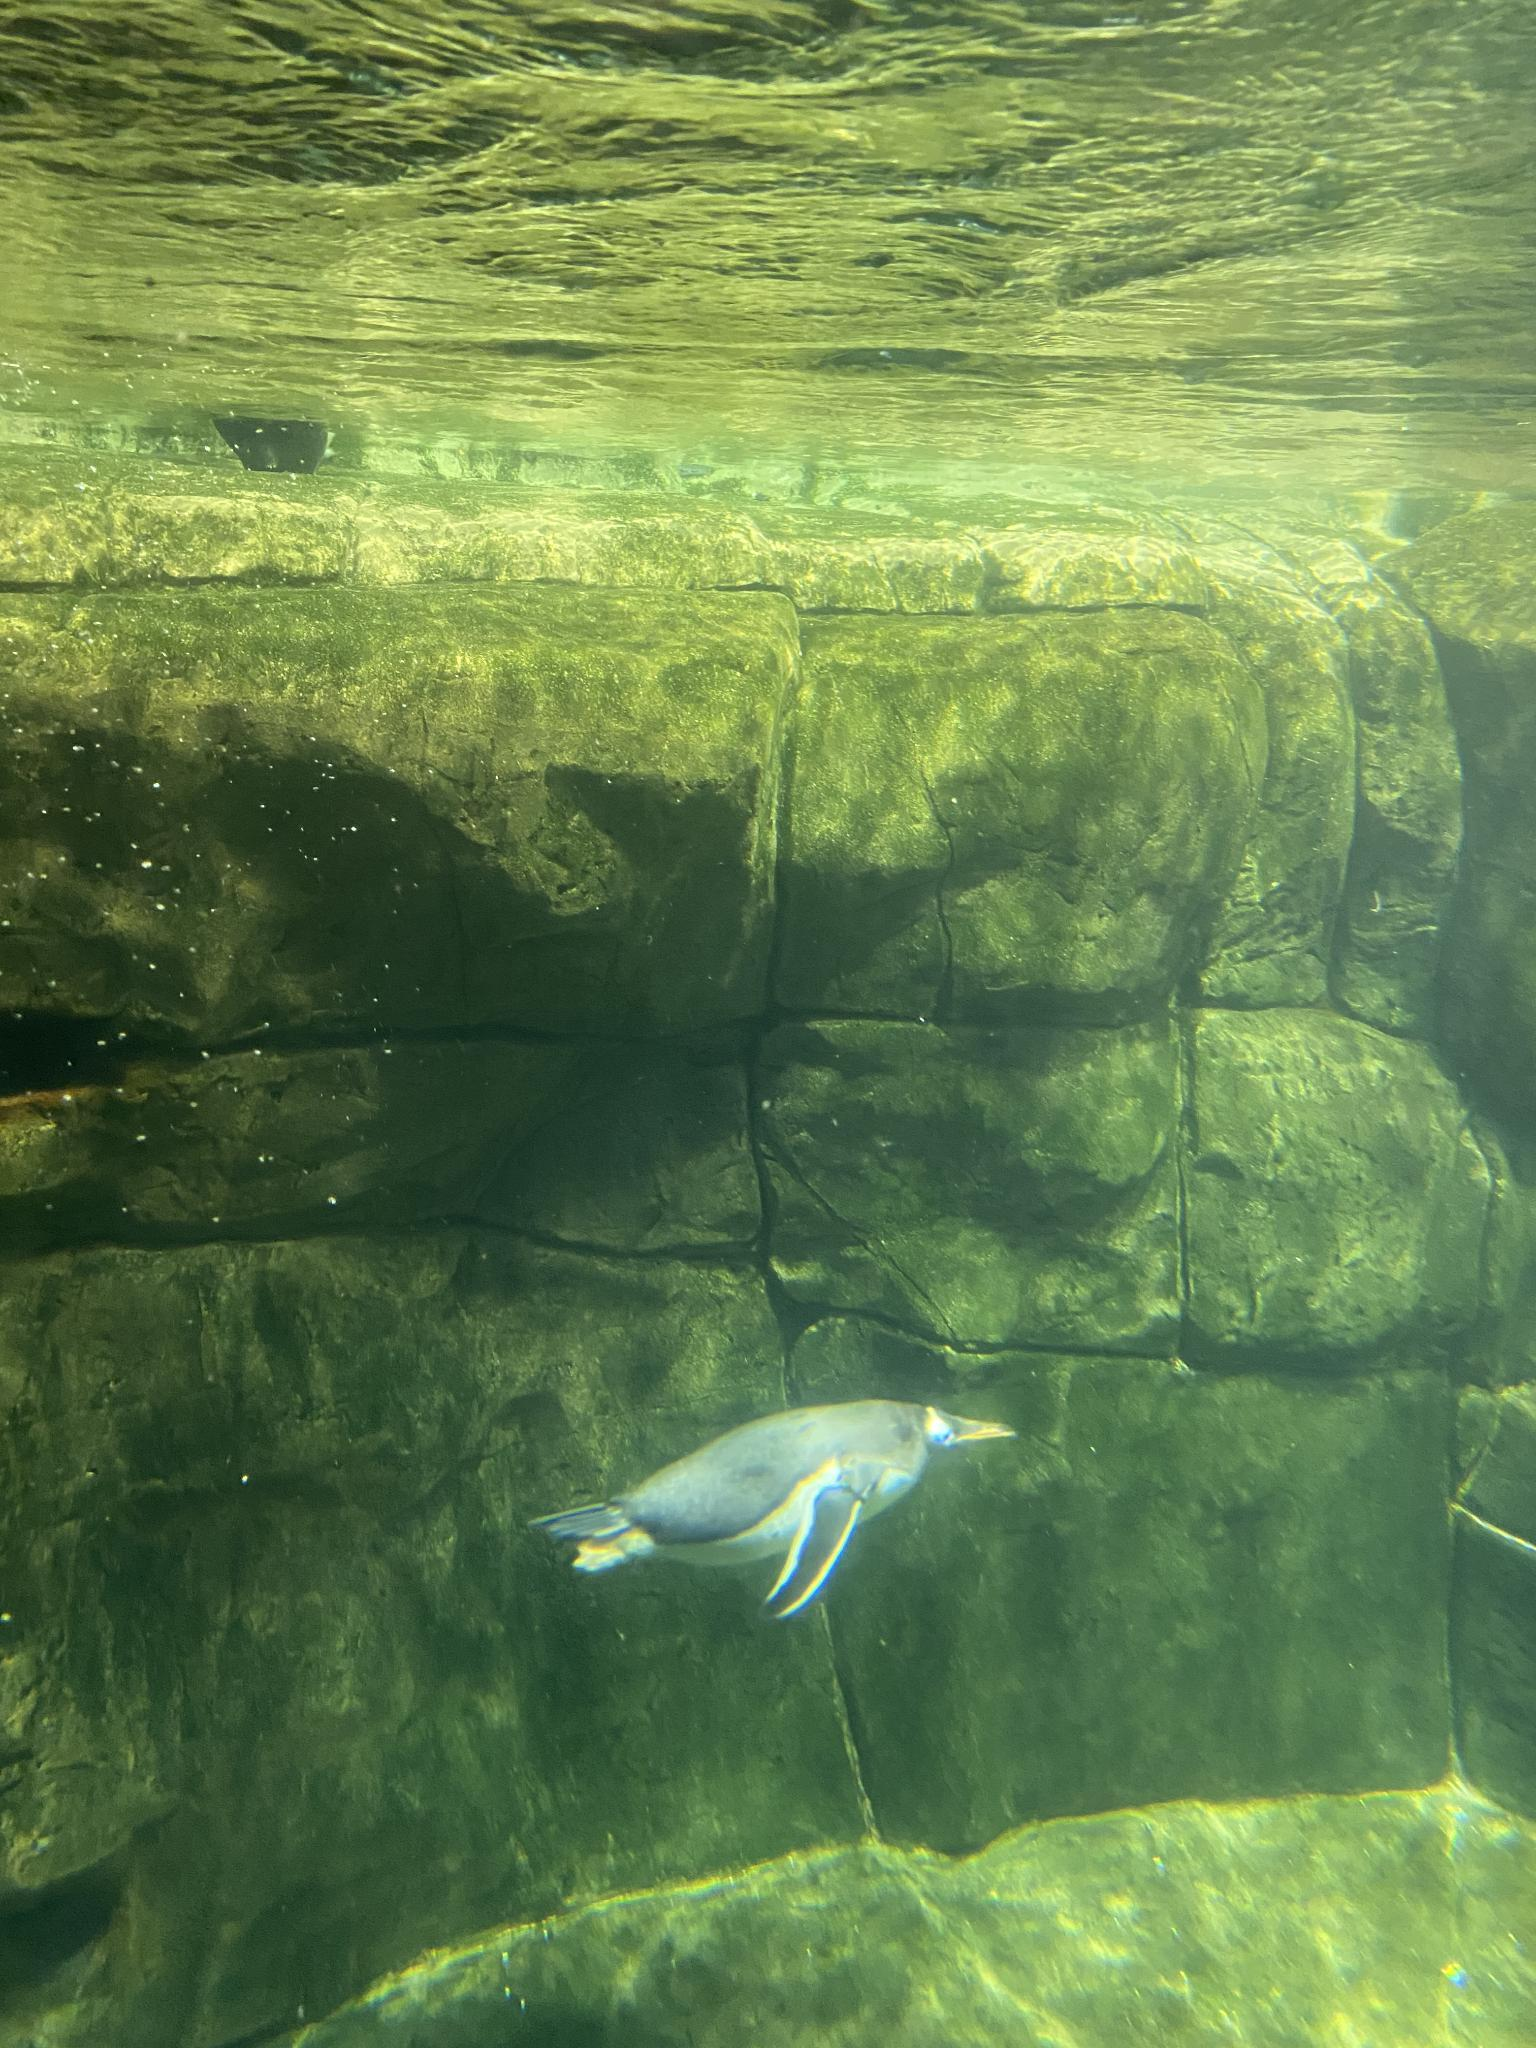penguin: (518, 1400, 1013, 1630)
